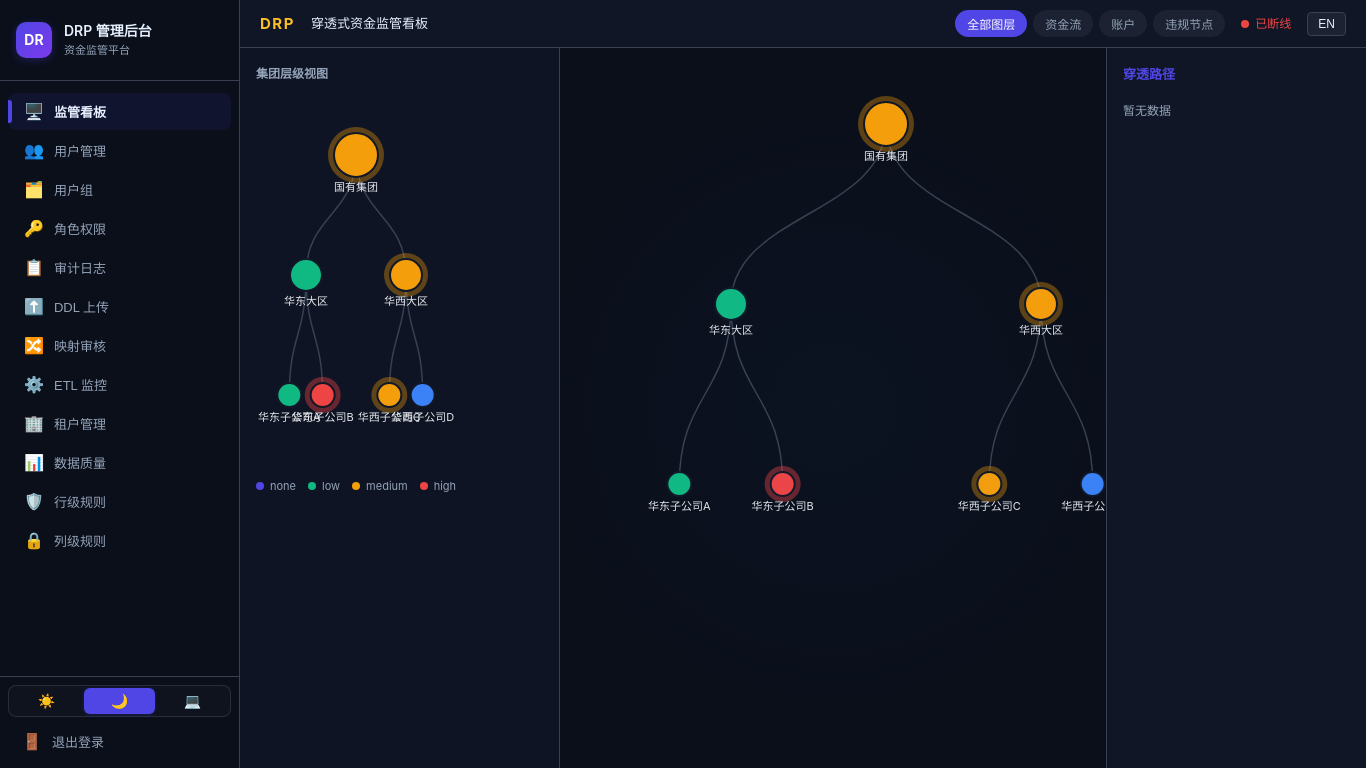
Scenario: 冒烟测试 › 用例2 — 用户管理页加载：已登录 → 导航到用户管理 → 用户列表表格可见
The image size is (1366, 768).
Click the button "👥 用户管理": point(120, 150) [8,132,231,169]
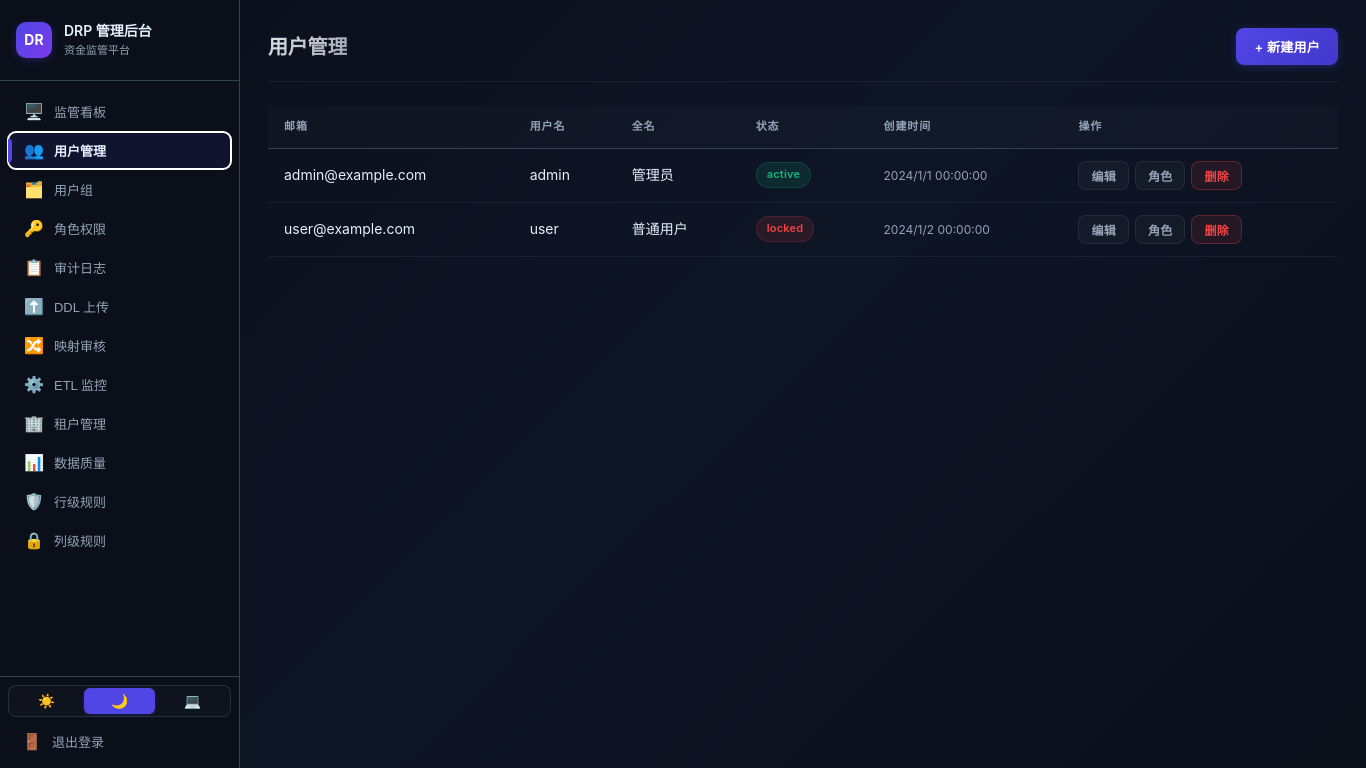
Now the table is shown, box [268,106,1338,257]
Now the column heading "邮箱" is shown, box [268,106,514,149]
Now the column heading "用户名" is shown, box [514,106,616,149]
